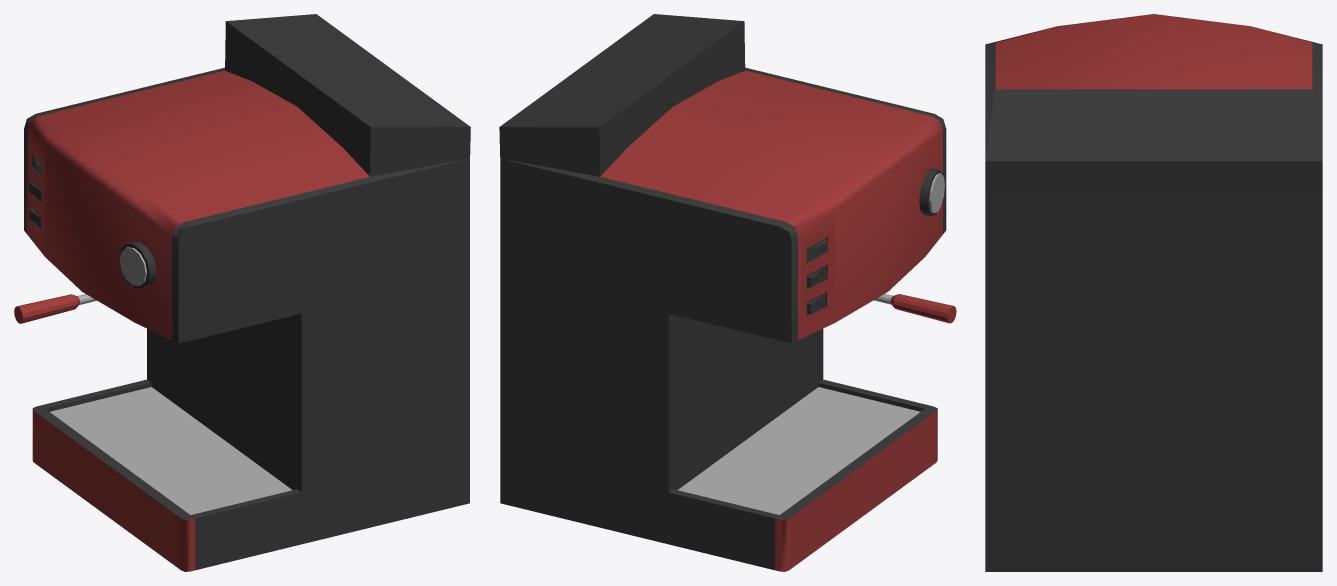
Rendered from Coffee_Machine.fbx.
3 views of the same model, side by side, from view 1: azimuth 30°, elevation 25°; view 2: azimuth 150°, elevation 25°; view 3: azimuth 270°, elevation 25° (orthographic). The views are drawn at different scales.
Visible parts, largest first — view 1: Coffee_Machine; view 2: Coffee_Machine; view 3: Coffee_Machine.
Boxes of the visible parts, x1,y1,x2,y2 form: Coffee_Machine: [14, 14, 470, 571]; Coffee_Machine: [499, 14, 956, 571]; Coffee_Machine: [985, 14, 1322, 571].
Bounding box in the file's own units: 24.44 × 24.62 × 17.42.
